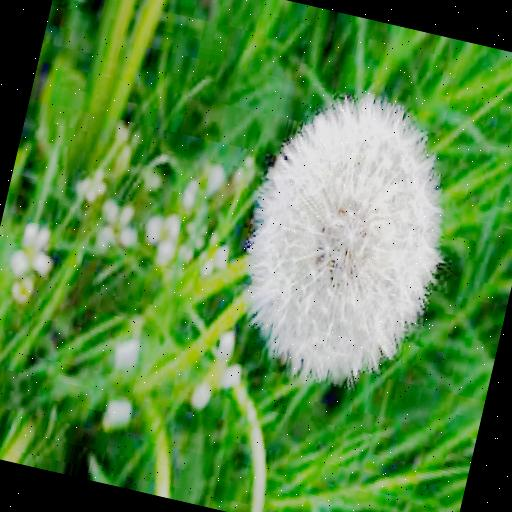dandelion: (228, 78, 467, 397)
